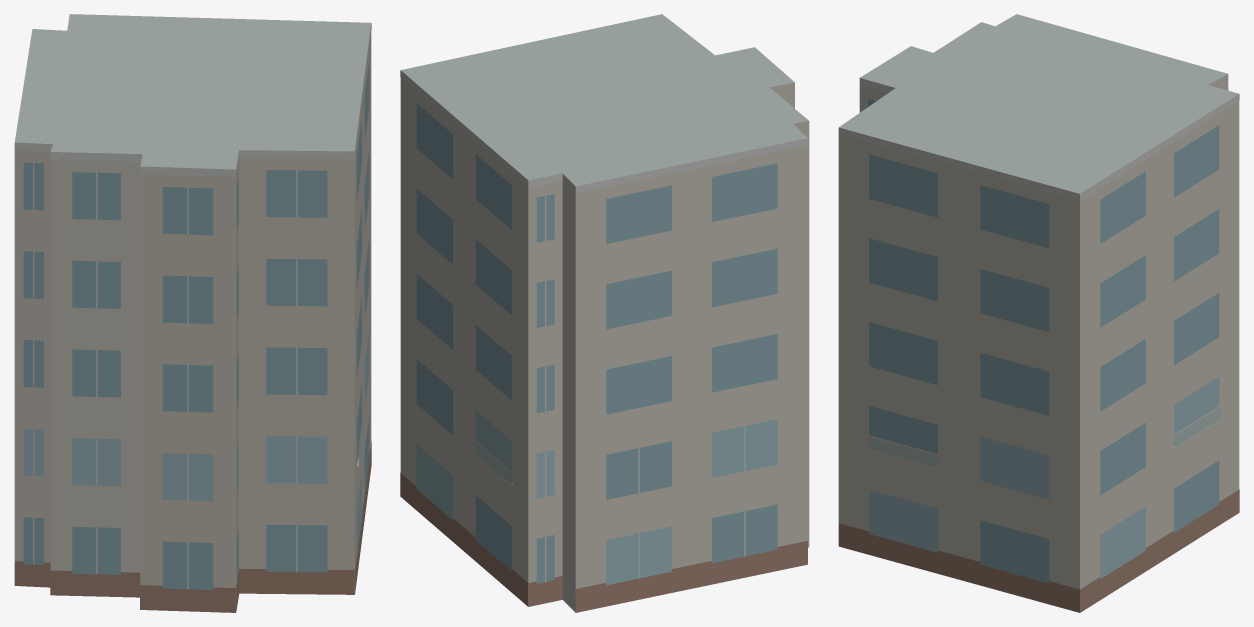
Rendered from survey-upis-33006585.glb.
3 renders of one model, left to right at view 1: azimuth 30°, elevation 25°; view 2: azimuth 150°, elevation 25°; view 3: azimuth 270°, elevation 25°, orthographic. The views are drawn at different scales.
Visible parts, largest first — view 1: survey-upis-33006585.tmp; view 2: survey-upis-33006585.tmp; view 3: survey-upis-33006585.tmp.
Part boxes in pixels (x1,y1,x2,y2): survey-upis-33006585.tmp: [14, 14, 371, 612]; survey-upis-33006585.tmp: [400, 14, 809, 612]; survey-upis-33006585.tmp: [838, 14, 1239, 612].
Size of the model in its own units: 13.27 by 14.4 by 12.49.
